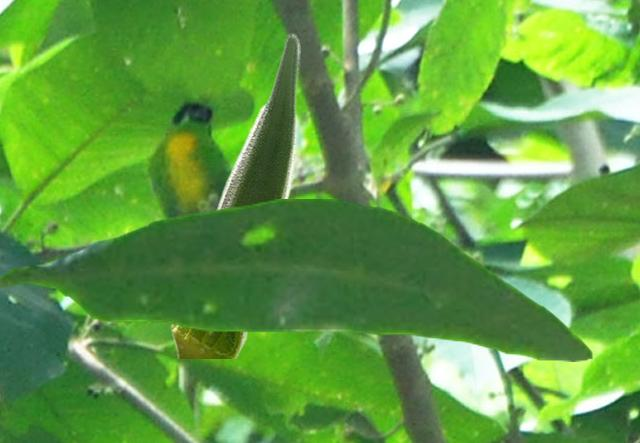okra: (170, 32, 299, 357)
